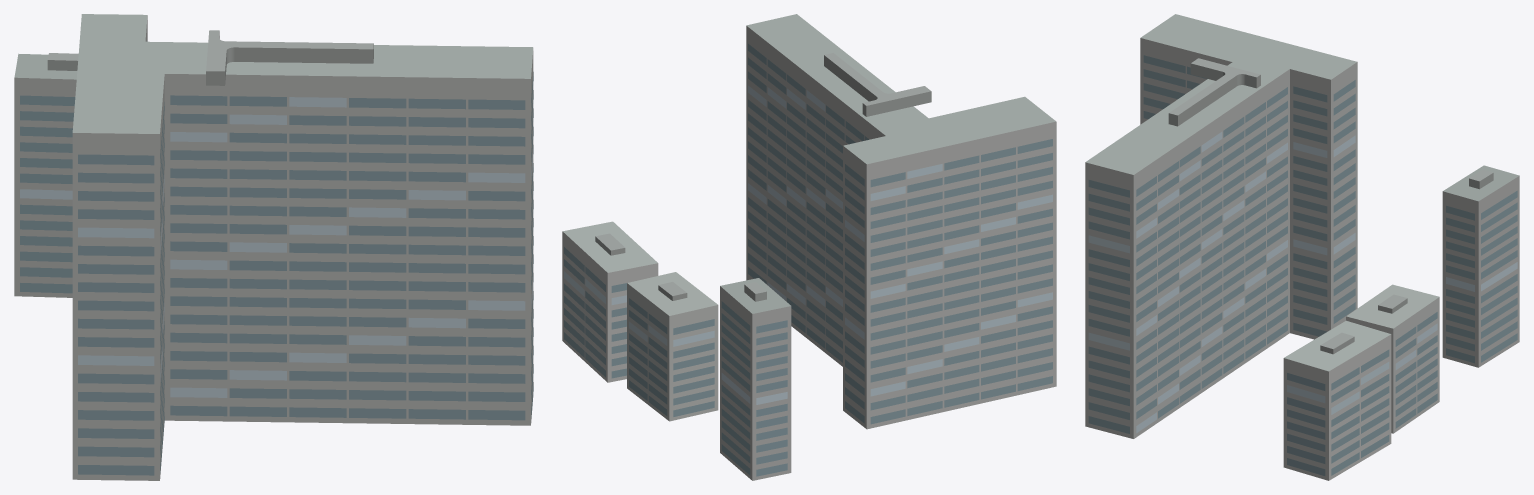
Rendered from apt-a15784003.glb.
3 views of the same model, side by side, from view 1: azimuth 30°, elevation 25°; view 2: azimuth 150°, elevation 25°; view 3: azimuth 270°, elevation 25° (orthographic). The views are drawn at different scales.
Parts seen in each view (by area): view 1: apt-a15784003; view 2: apt-a15784003; view 3: apt-a15784003.
Part boxes in pixels (x1,y1,x2,y2): apt-a15784003: [14, 14, 533, 480]; apt-a15784003: [562, 14, 1056, 480]; apt-a15784003: [1085, 14, 1519, 480].
Size of the model in its own units: 94.86 by 60 by 85.89.
